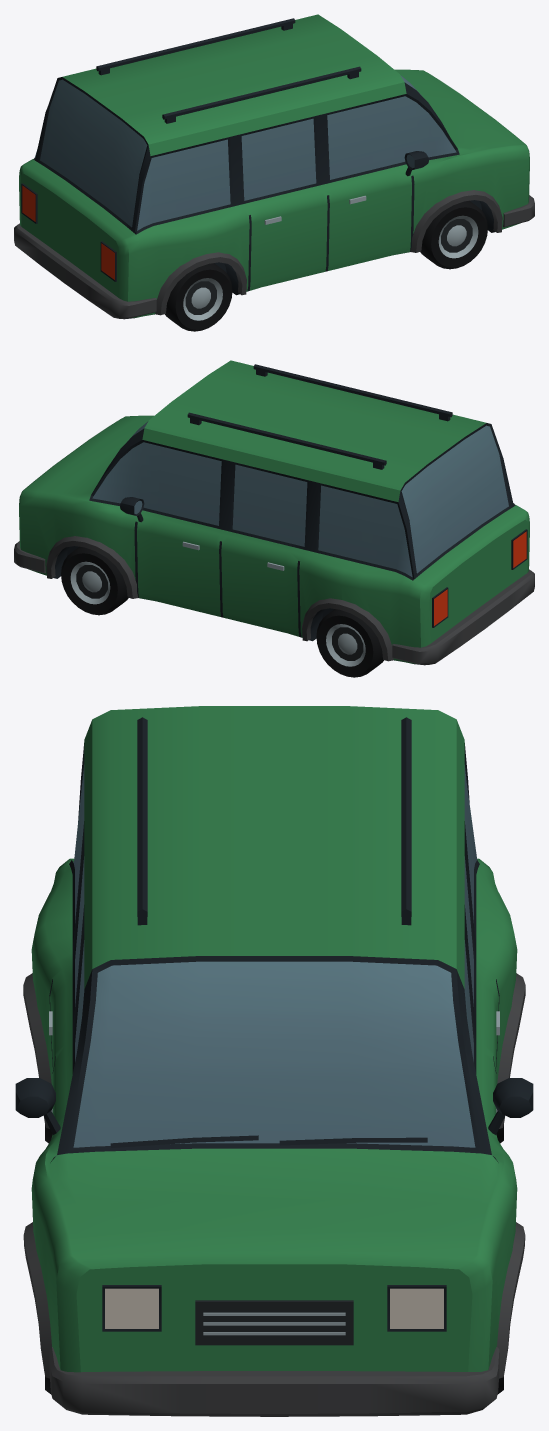
File: cute-car-suv.glb
The picture shows the model from 3 angles, top to bottom: view 1: azimuth 30°, elevation 25°; view 2: azimuth 150°, elevation 25°; view 3: azimuth 270°, elevation 25°; orthographic projection. The views are drawn at different scales.
Parts seen in each view (by area): view 1: Cute-car-suvBody; view 2: Cute-car-suvBody; view 3: Cute-car-suvBody.
Boxes of the visible parts, box(x1,y1,x2,y2) form: Cute-car-suvBody: box(14, 14, 534, 331); Cute-car-suvBody: box(14, 360, 534, 677); Cute-car-suvBody: box(15, 706, 533, 1416).
Bounding box in the file's own units: 3.72 × 1.71 × 1.96.
1 material, 1 textured.
